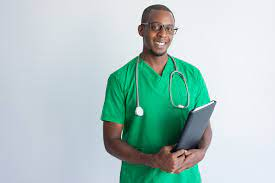hand: (155, 143, 186, 174), (176, 147, 203, 172)
